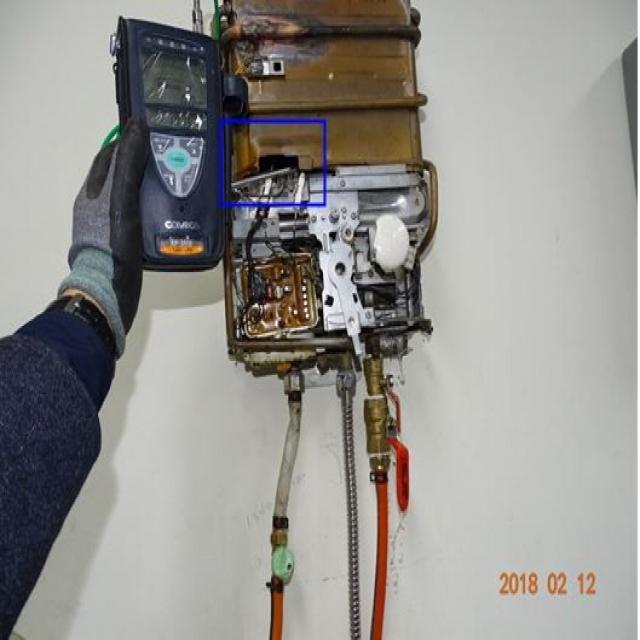Boiler: (198, 0, 470, 380)
